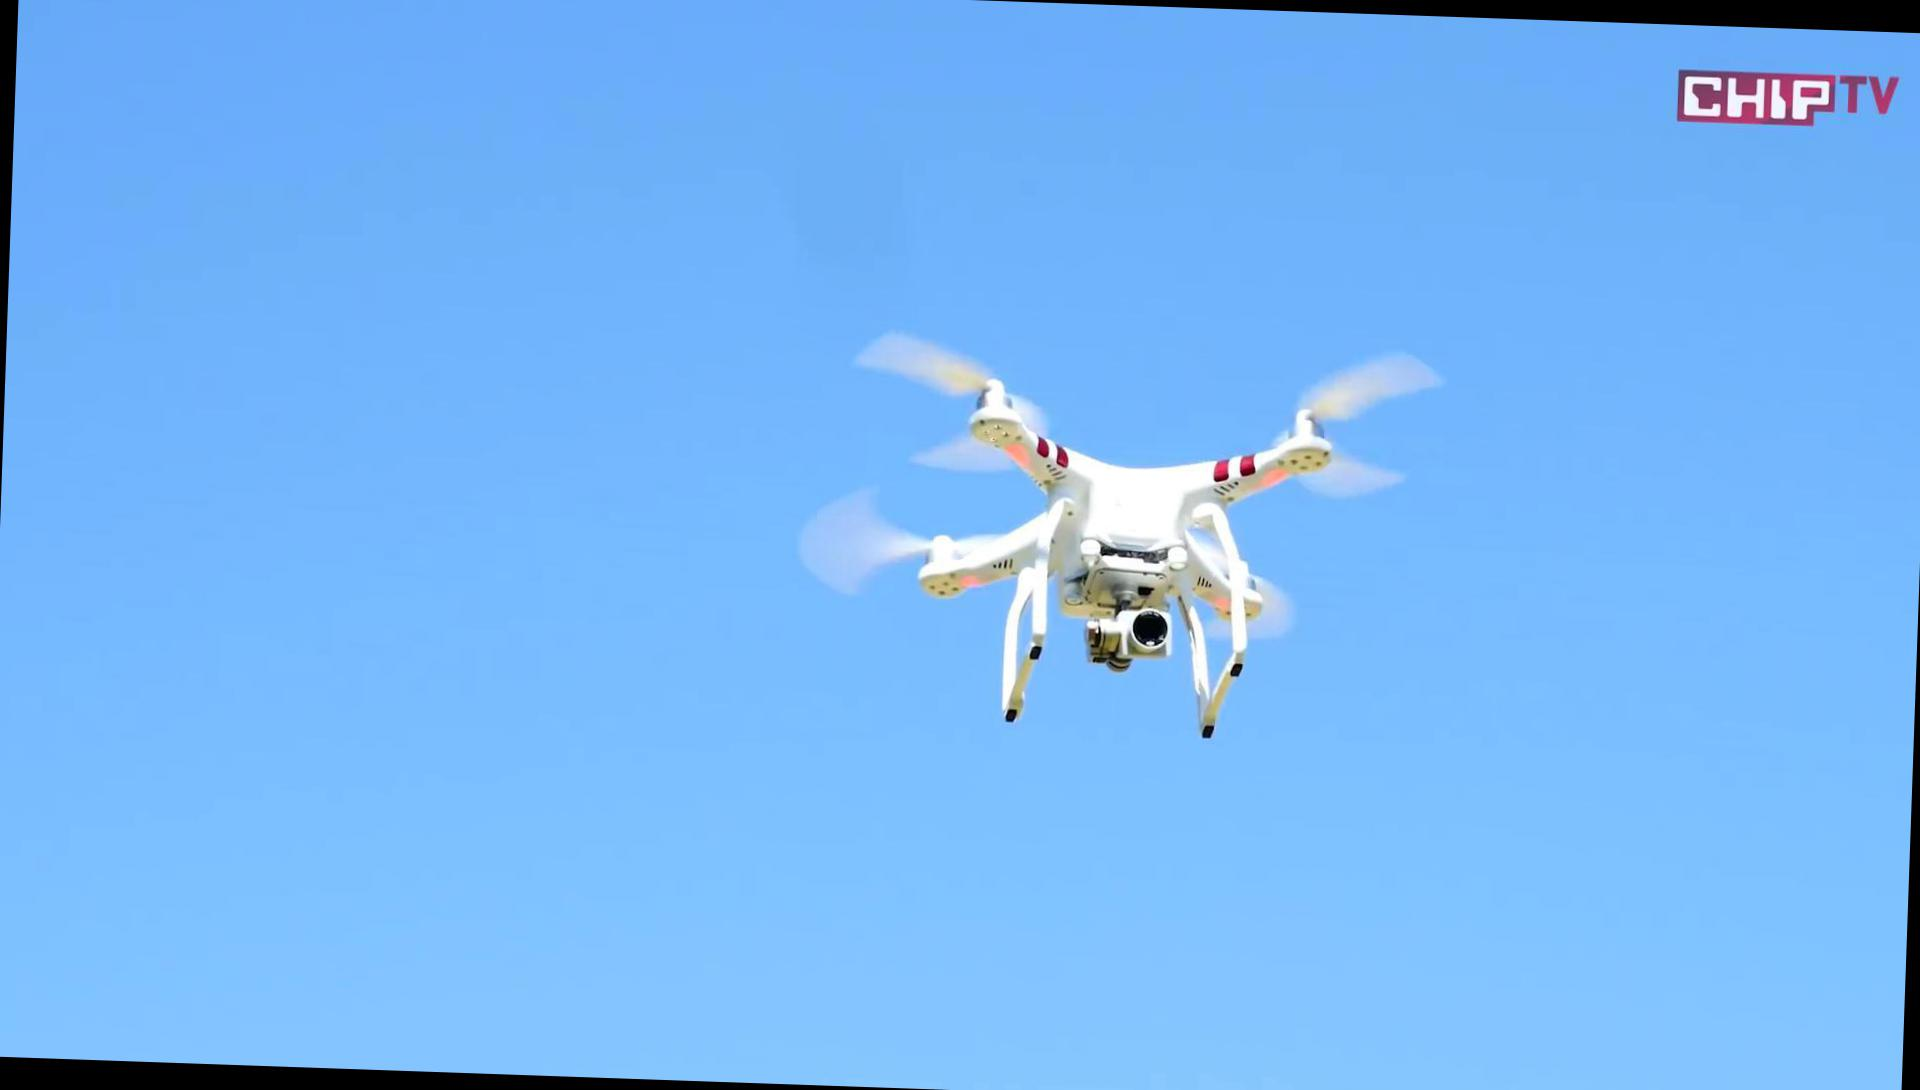drone: (852, 336, 1375, 749)
